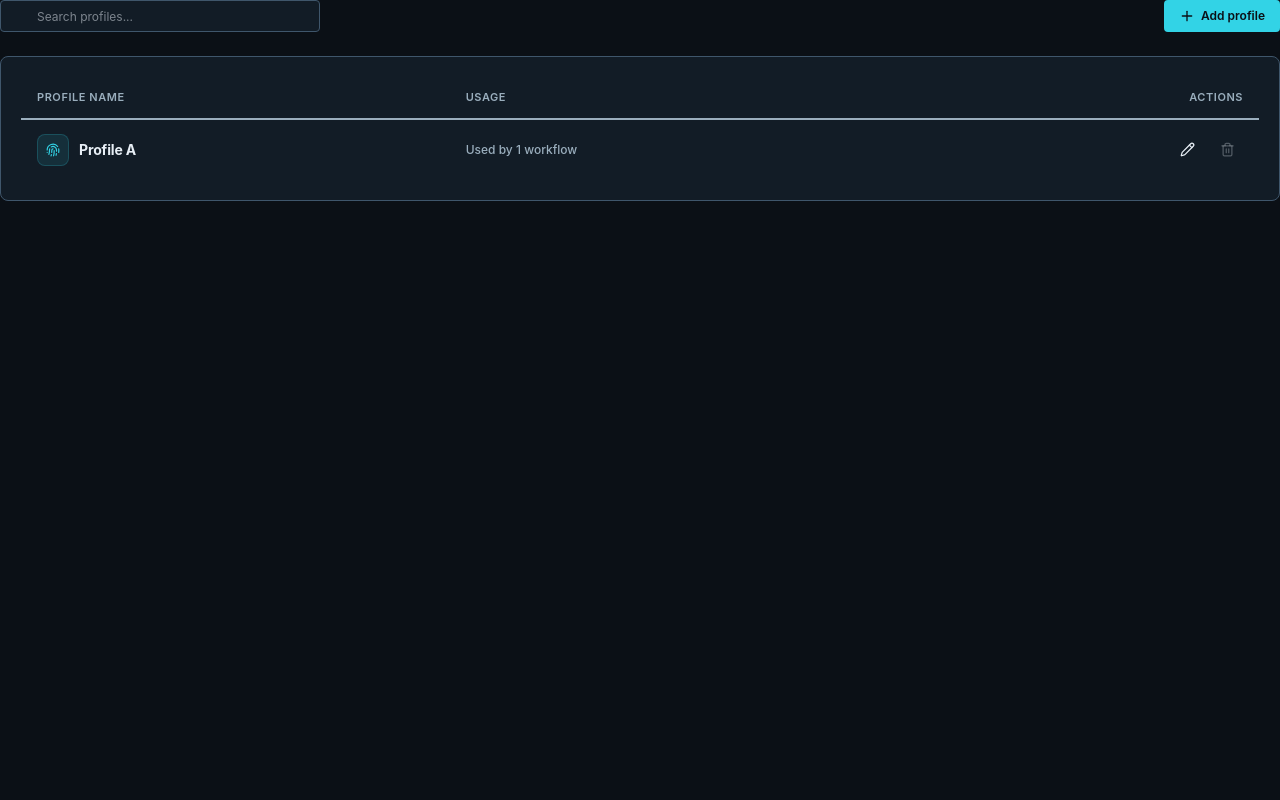
Test: ProjectProfilesPanel › lists associated workflows and allows navigation to them
What coordinates should you click on to do the following:
click the button named "Configure profile Profile A"
I would click on:
 (1187, 150)
Its box is [1171,134,1203,166].
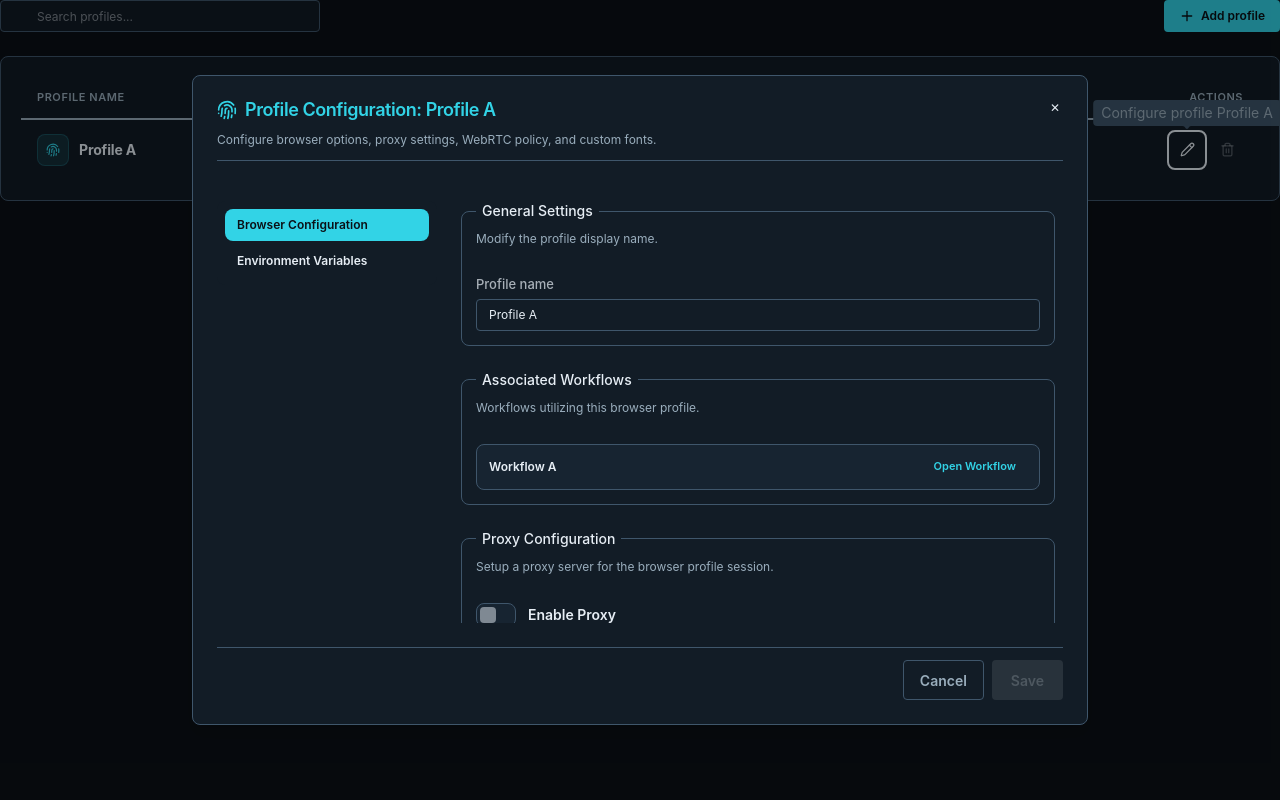
Check: the text "Workflow A" is shown, box [489,458,556,474]
What coordinates should you click on to do the following:
click the button "Open Workflow"
I would click on:
 (975, 466)
Its box is [923,454,1027,478].
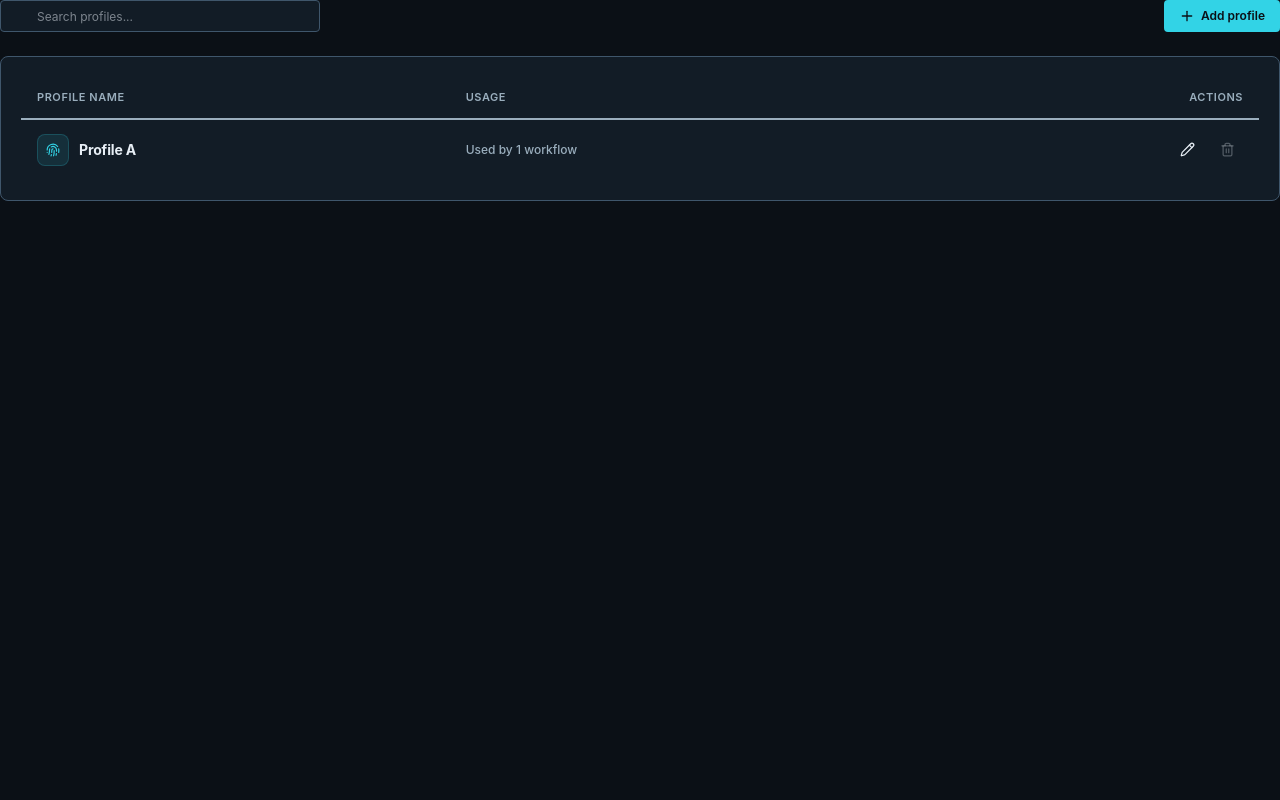
Check: the text "Profile Configuration: Profile A" is gone
